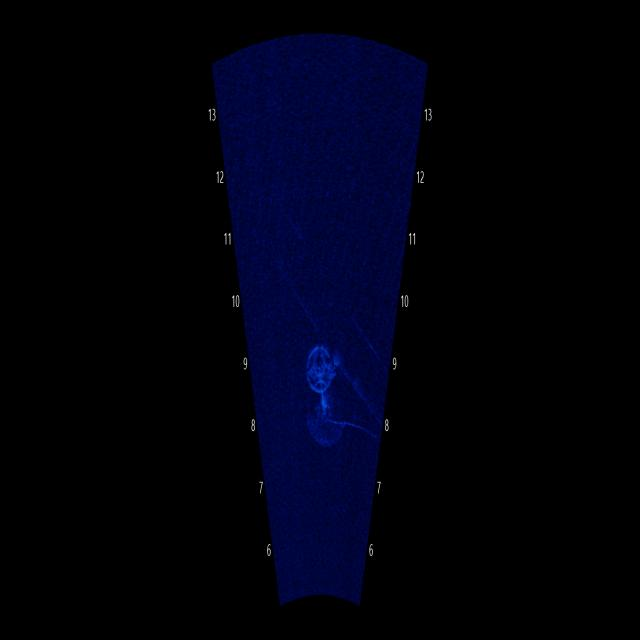circle: (297, 317, 343, 411)
